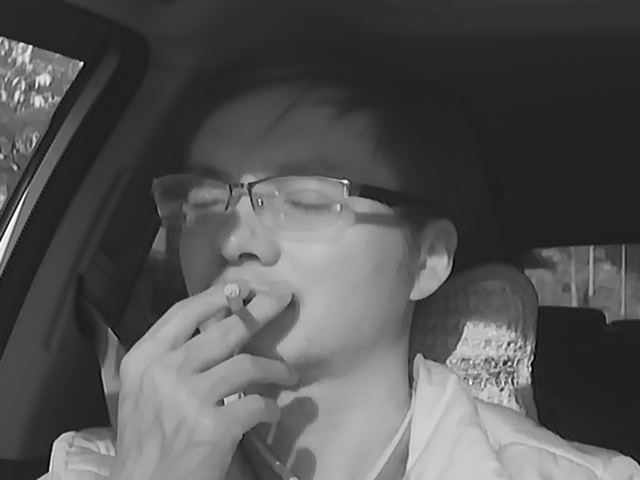hand: (133, 276, 299, 436)
